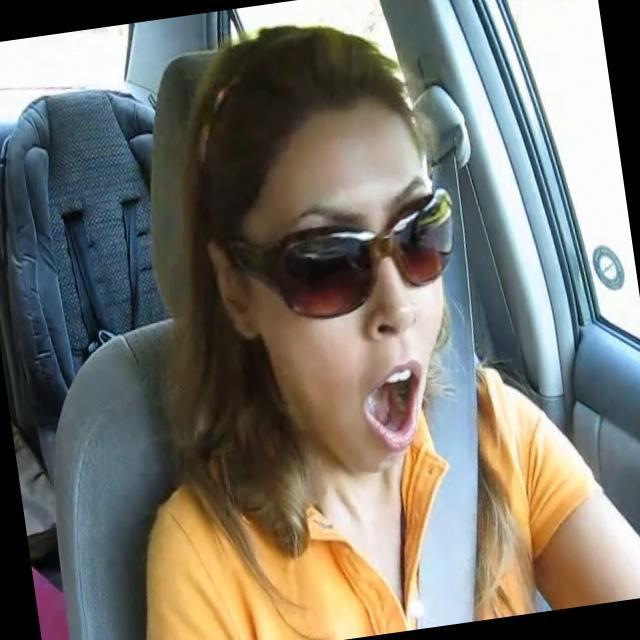open-mouth: (363, 364, 421, 446)
